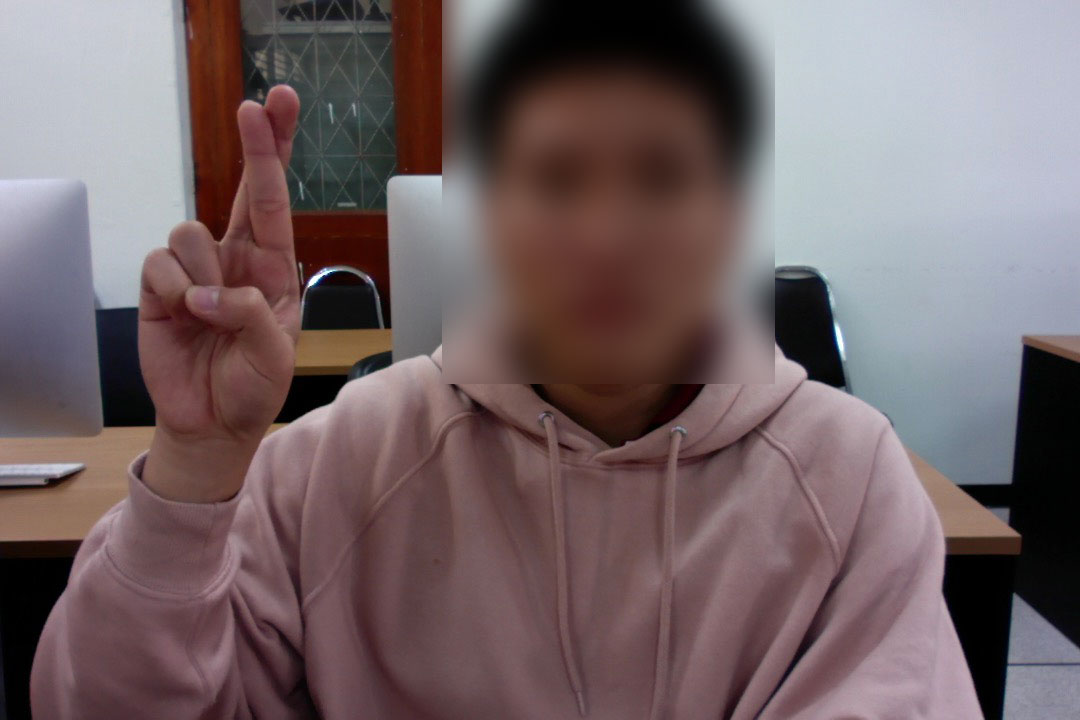rao: (133, 67, 314, 443)
